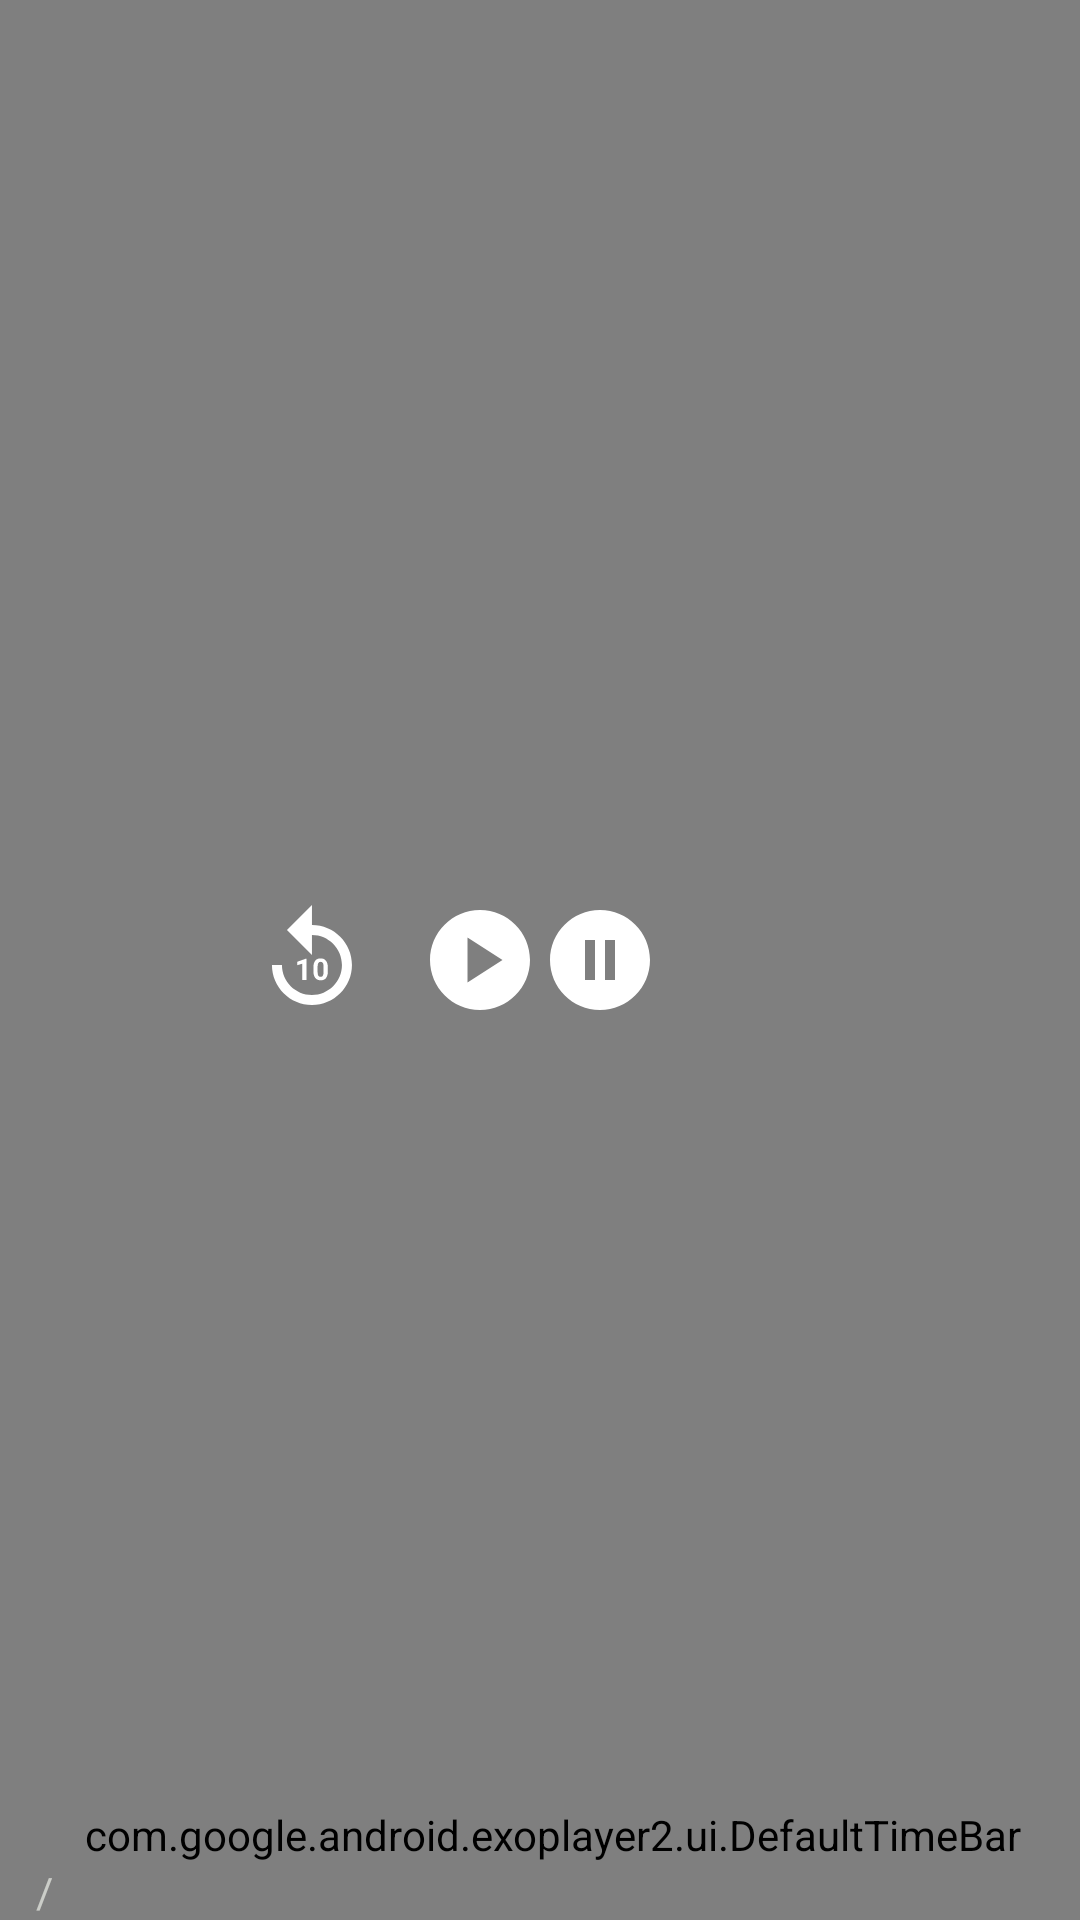

Where icons sit on this 1080px x 1920px app screen, as rect(x1, y1, x2, y2):
pause: rect(550, 910, 650, 1010)
play: rect(430, 910, 530, 1010)
rew: rect(272, 905, 352, 1005)
